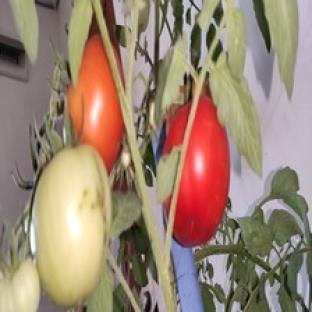Tomato: (34, 145, 111, 306), (173, 97, 229, 246), (67, 35, 123, 172), (0, 260, 40, 311)
